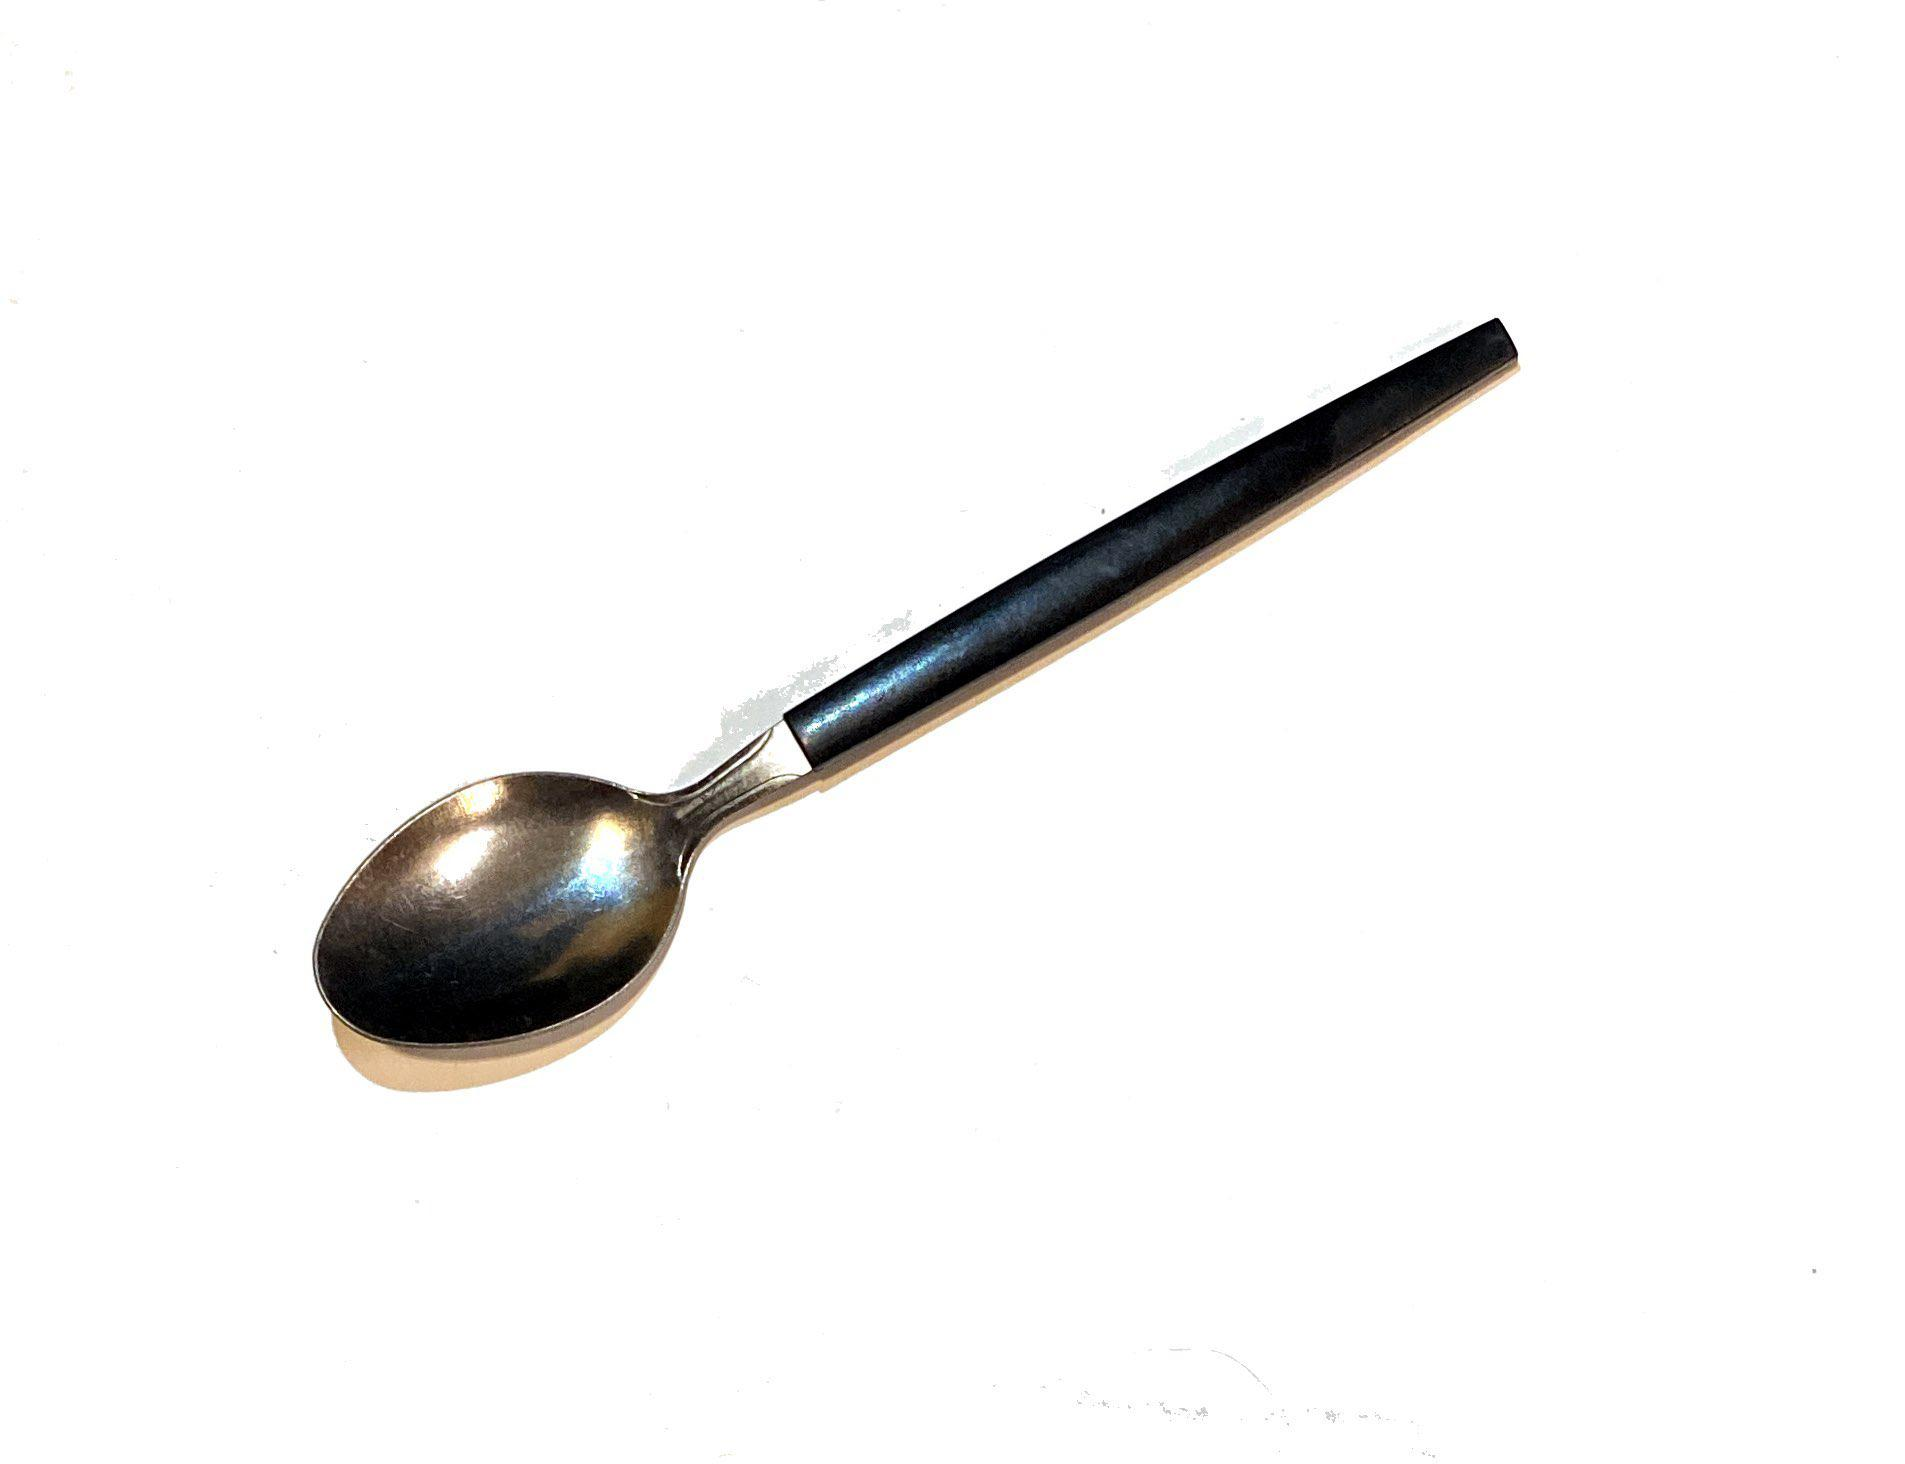Spoon: (274, 268, 1567, 1101)
